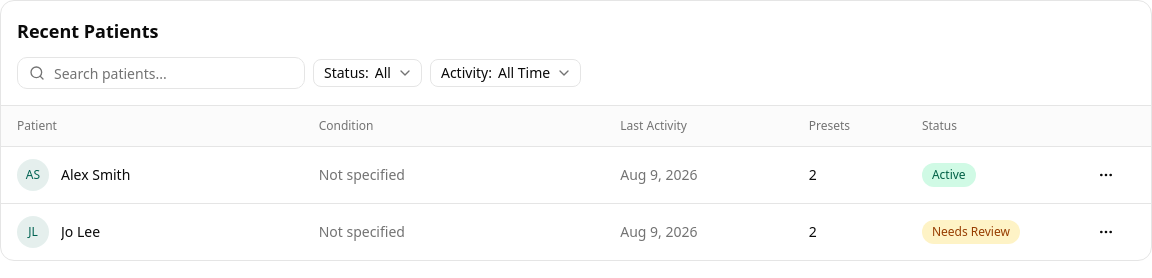
RecentPatientsTable › filtering › says so when nothing matches
The width and height of the screenshot is (1152, 278).
Type "nobody" into the field labelled "Search patients" at (161,73), box [17,57,305,89]
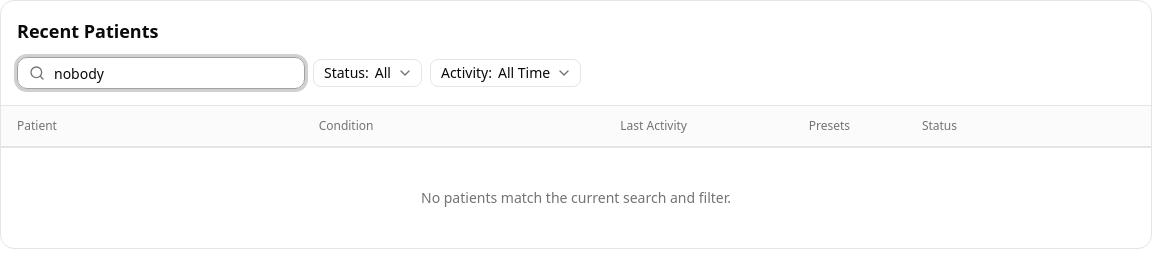
Check: the text "No patients match the current search and filter." is shown, box [1,147,1151,248]
